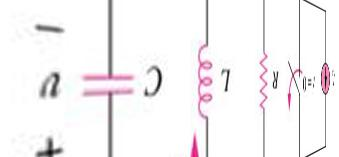inductor: (191, 36, 212, 126)
